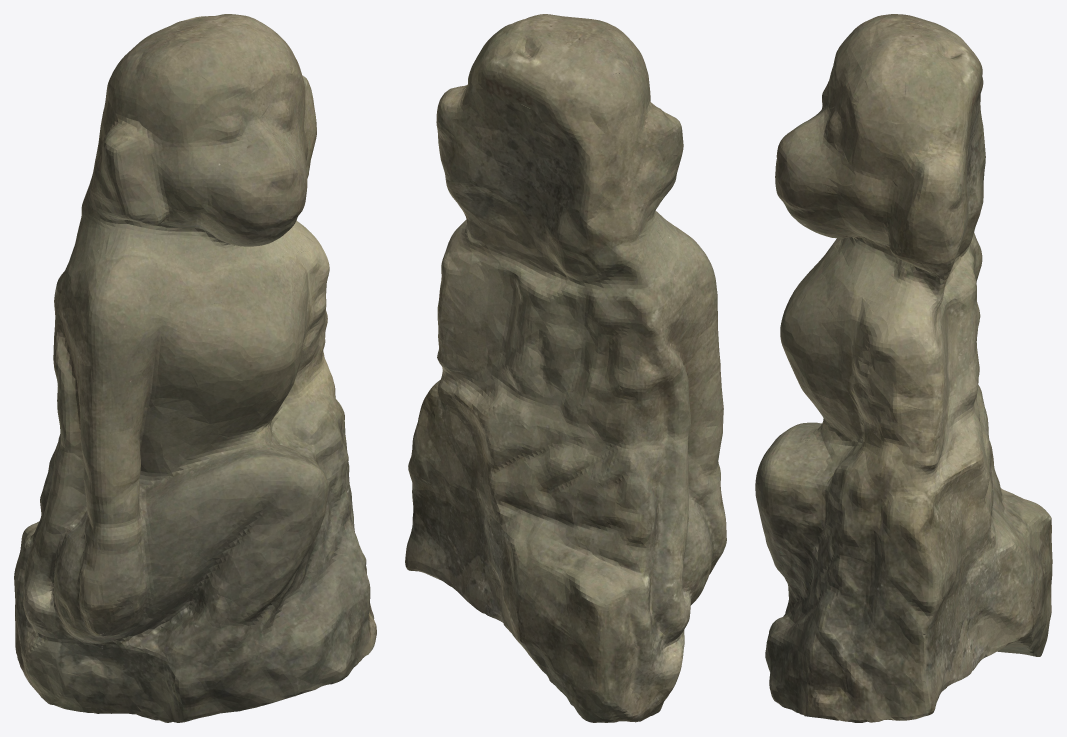
Rendered from 23_khi_final.glb.
3 renders of one model, left to right at view 1: azimuth 30°, elevation 25°; view 2: azimuth 150°, elevation 25°; view 3: azimuth 270°, elevation 25°, orthographic. The views are drawn at different scales.
Bounding box in the file's own units: 0.2413 × 0.4995 × 0.1977.
Materials: 1 (1 with a texture image).
